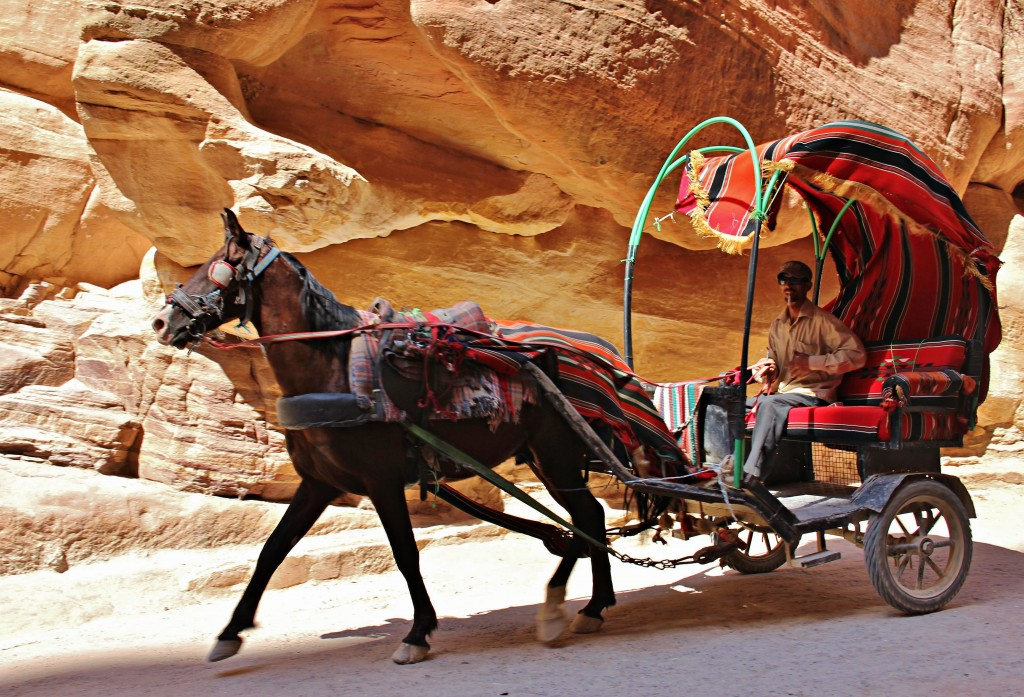equine: (138, 200, 662, 677)
human: (741, 252, 873, 506)
